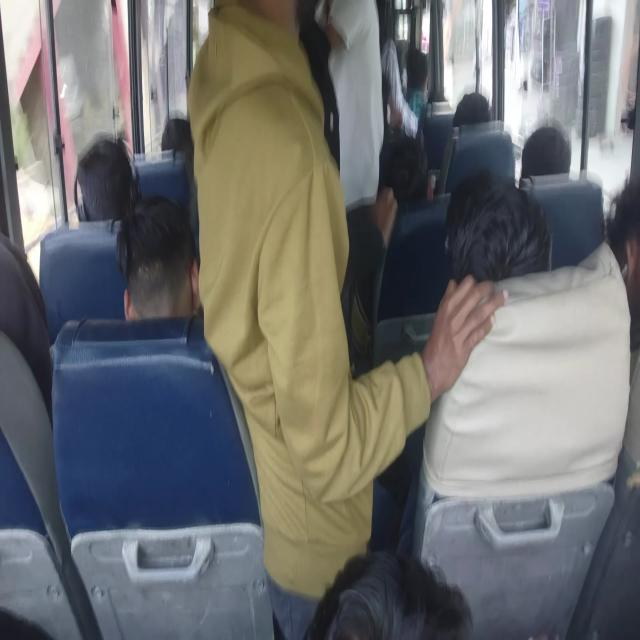person: (189, 8, 321, 158), (309, 549, 469, 637), (443, 171, 549, 288), (0, 221, 54, 429), (117, 193, 200, 322), (605, 171, 640, 459), (443, 91, 511, 194), (329, 0, 378, 129), (74, 136, 138, 226), (518, 121, 572, 185), (383, 135, 429, 207), (160, 117, 194, 161), (452, 92, 492, 128)
